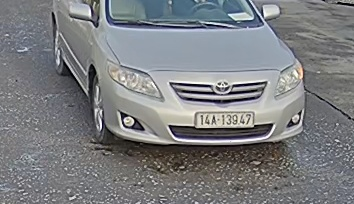vehicle plate: (191, 109, 260, 129)
